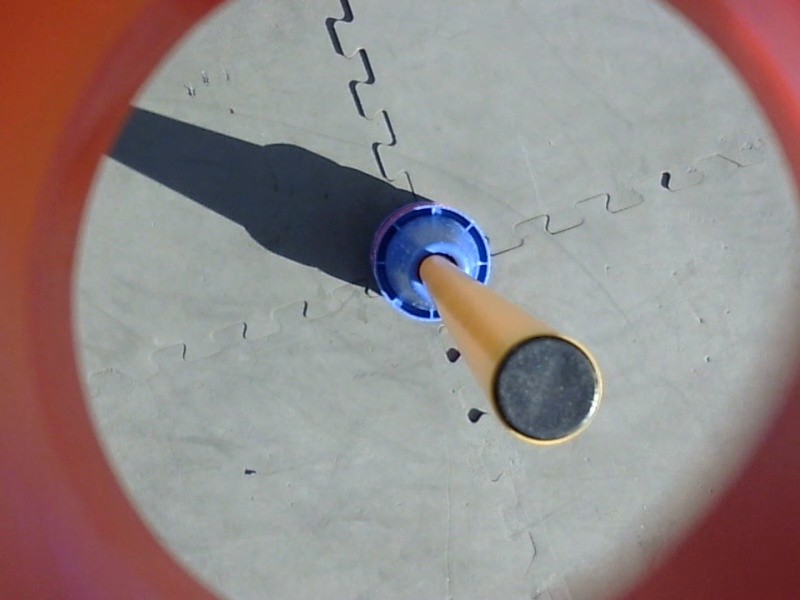tip: (482, 325, 612, 451)
